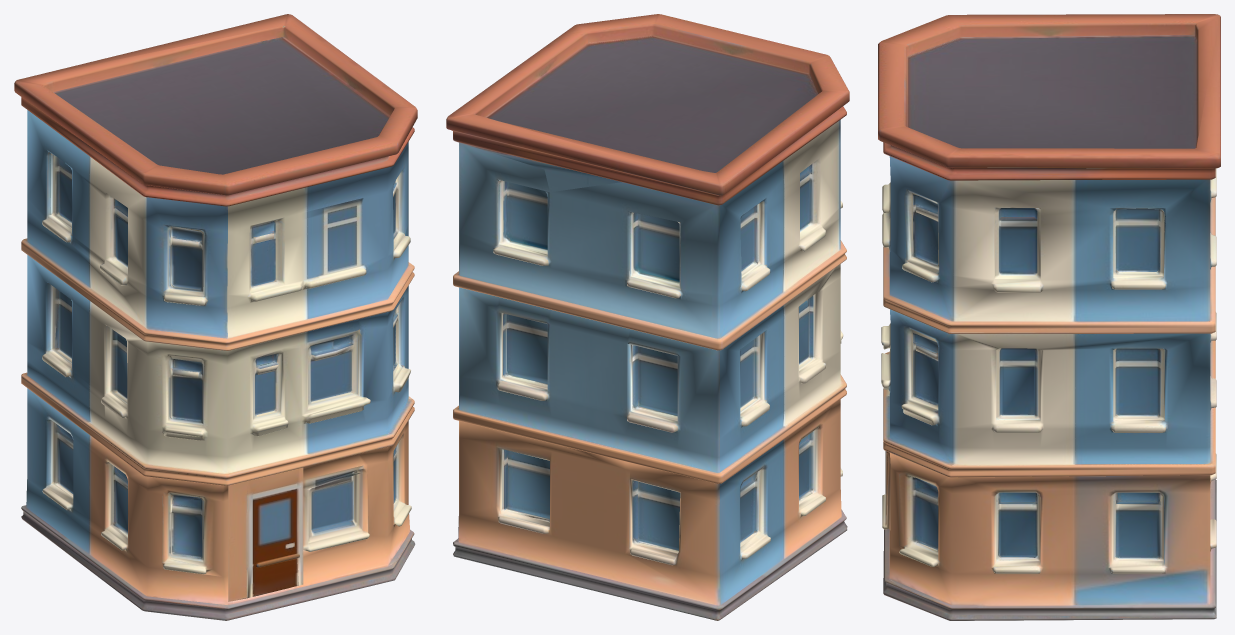
File: blocklife_apartment_hq_01.glb
3 views of the same model, side by side, from view 1: azimuth 30°, elevation 25°; view 2: azimuth 150°, elevation 25°; view 3: azimuth 270°, elevation 25° (orthographic). The views are drawn at different scales.
Size of the model in its own units: 1.26 by 1.91 by 1.27.
1 material, 1 textured.
